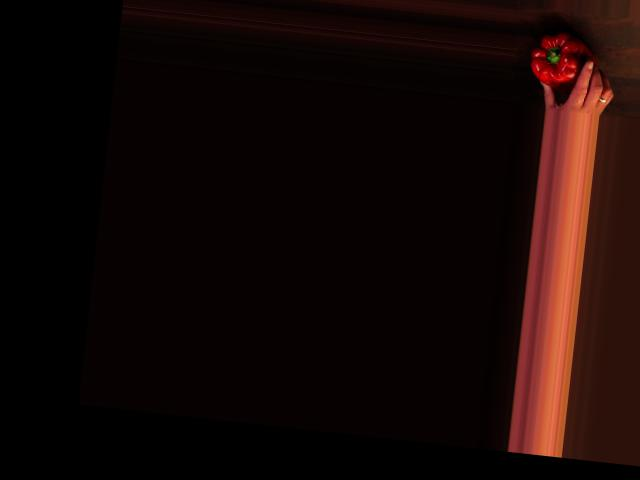bell_pepper: (526, 27, 594, 93)
